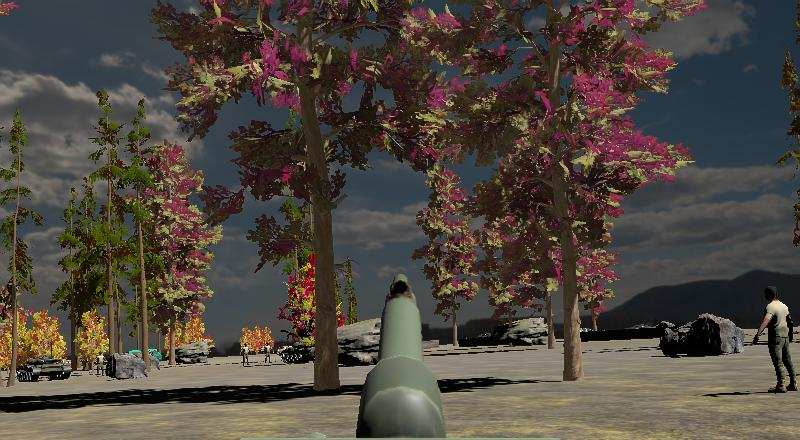Human: (748, 282, 799, 397)
Tank: (15, 353, 73, 384), (278, 340, 321, 365)
car: (128, 346, 162, 364)
